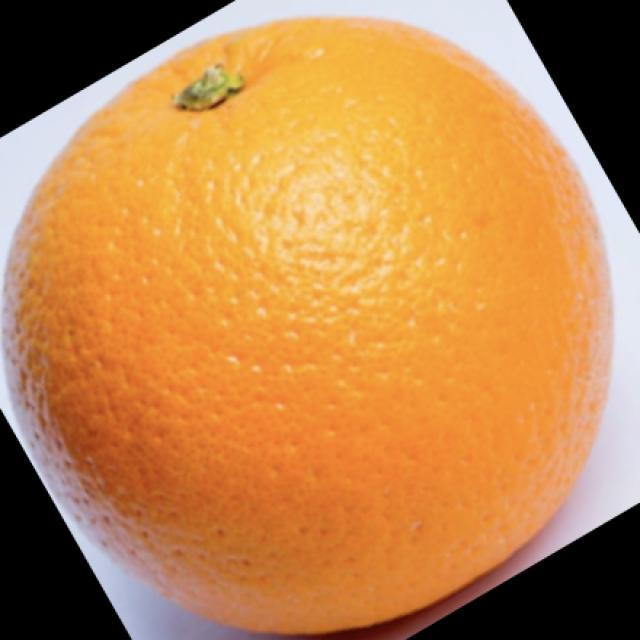Orange: (0, 13, 615, 637)
